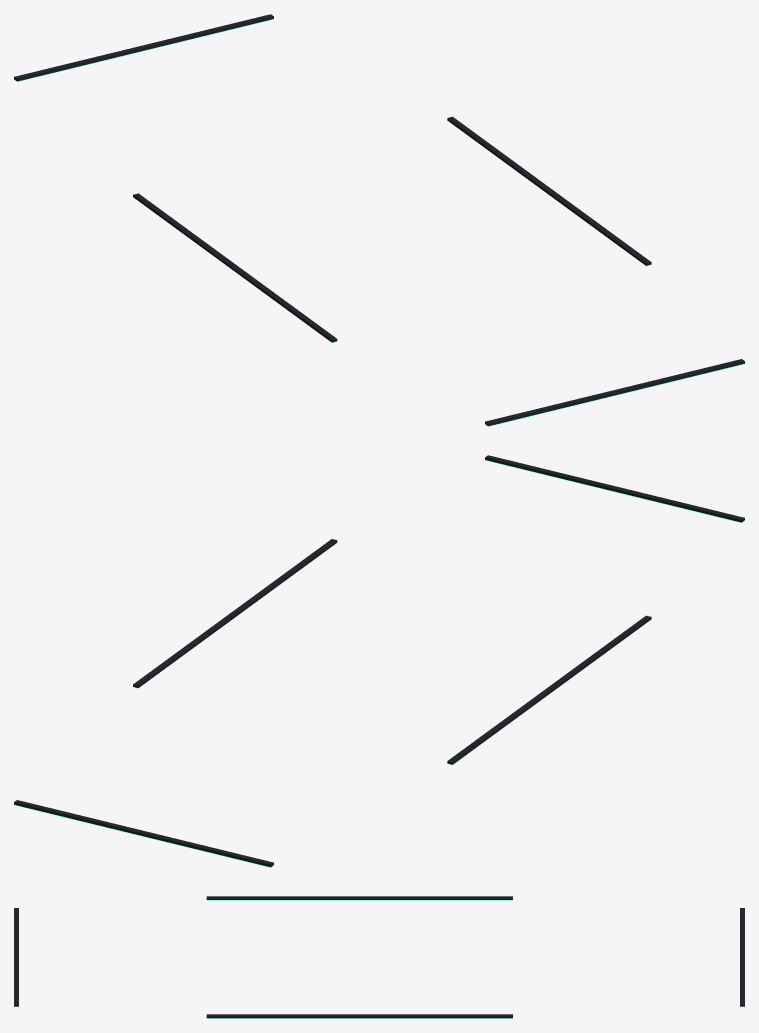
File: apex_v8.glb
3 views of the same model, one above another, from view 1: azimuth 30°, elevation 25°; view 2: azimuth 150°, elevation 25°; view 3: azimuth 270°, elevation 25° (orthographic). The views are drawn at different scales.
Parts seen in each view (by area): view 1: model; view 2: model; view 3: model.
Part boxes in pixels (x1,y1,x2,y2): model: (14,14,744,426); model: (14,455,744,867); model: (14,896,744,1018).
Size of the model in its own units: 1.64 by 0.018 by 4.21.
Materials: 2 (1 with a texture image).
